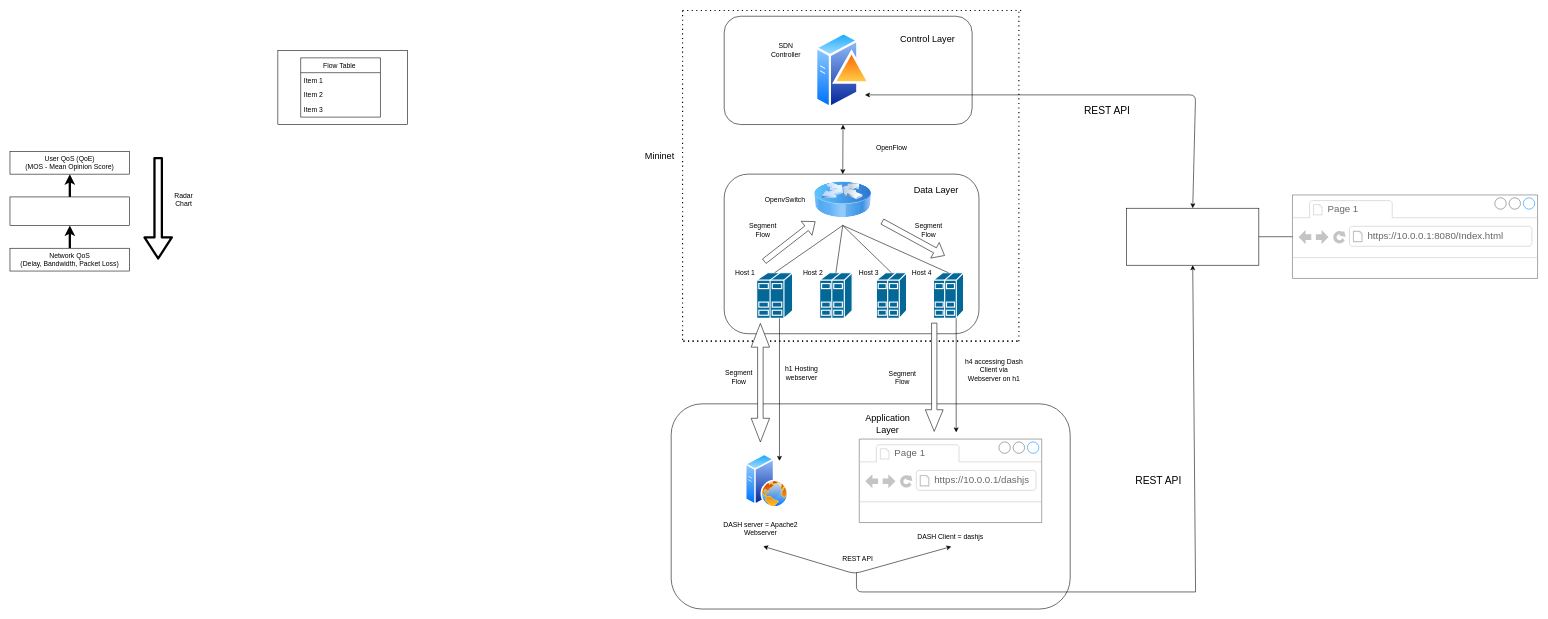
Image size: 1548x619. Some labels were removed from this diagram. The centre of each missing label's shape, as x and y in pixels:
"Application QoS (Initial Delay, Buffering Frequency, Buffering Duration)" goes at point 69,210.
"REST API Network Management" goes at point 1192,236.
